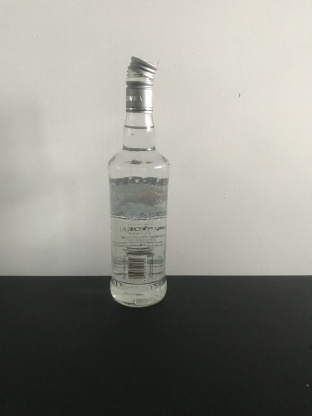nakretka: (124, 52, 158, 114)
